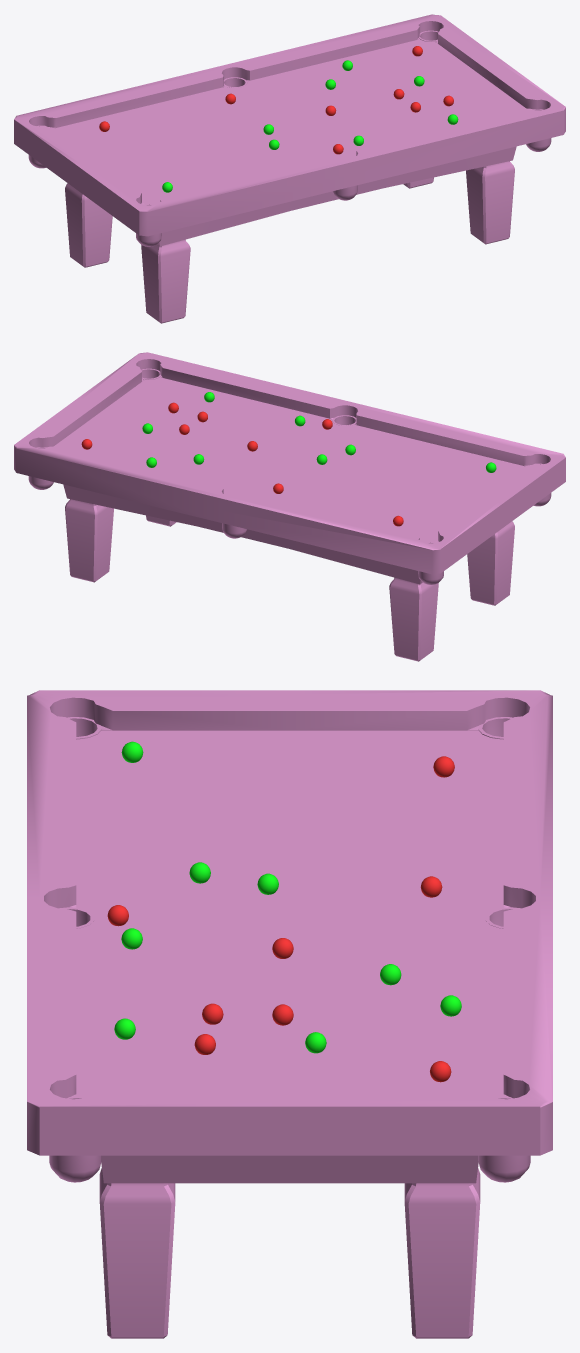
Rendered from PoolTable.FBX.
3 views of the same model, one above another, from view 1: azimuth 30°, elevation 25°; view 2: azimuth 150°, elevation 25°; view 3: azimuth 270°, elevation 25° (orthographic). The views are drawn at different scales.
Parts seen in each view (by area): view 1: PoolTable_LP, PoolTableLegs_LP, PoolTablePockets_LP; view 2: PoolTable_LP, PoolTableLegs_LP, PoolTablePockets_LP; view 3: PoolTable_LP, PoolTableLegs_LP, PoolTablePockets_LP.
Boxes of the visible parts, x1,y1,x2,y2 form: PoolTable_LP: [14, 14, 565, 246]; PoolTableLegs_LP: [65, 161, 514, 323]; PoolTablePockets_LP: [28, 30, 551, 246]; PoolTable_LP: [14, 352, 565, 584]; PoolTableLegs_LP: [65, 499, 514, 661]; PoolTablePockets_LP: [28, 368, 551, 584]; PoolTable_LP: [27, 690, 552, 1183]; PoolTableLegs_LP: [99, 1168, 480, 1338]; PoolTablePockets_LP: [49, 717, 530, 1182].
Bounding box in the file's own units: 308 × 93.54 × 164.
